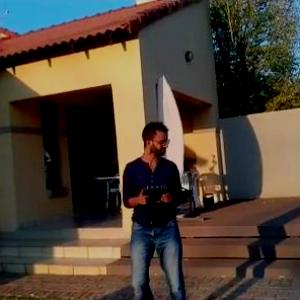follow: (120, 117, 190, 299)
